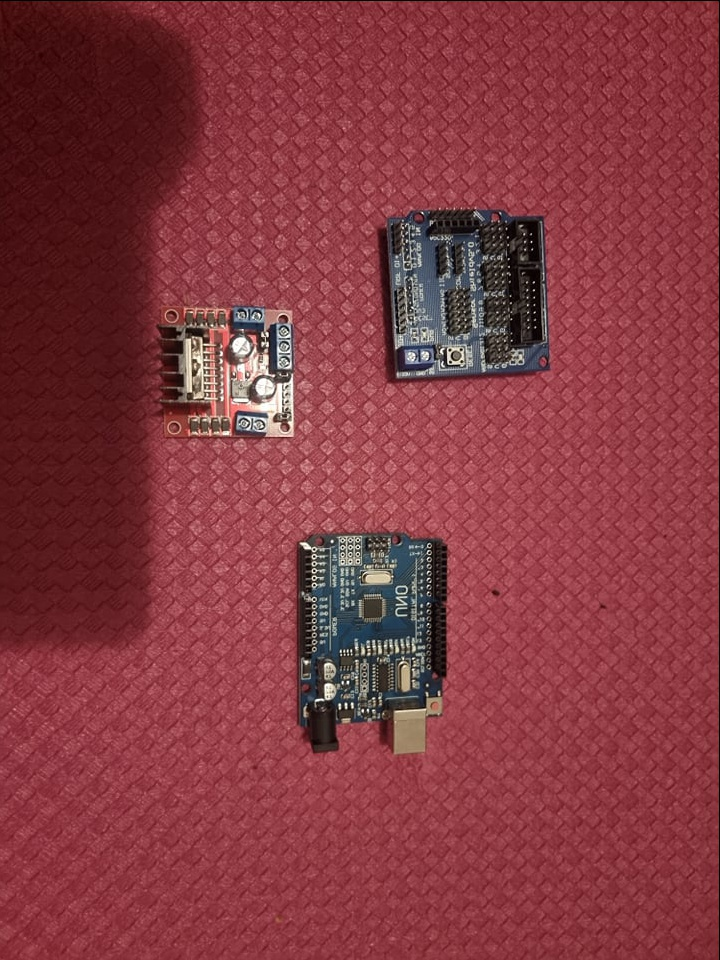5V EXPANSION: (382, 205, 548, 382)
MOTOR: (158, 303, 292, 441)
UNO R3: (295, 529, 454, 758)
